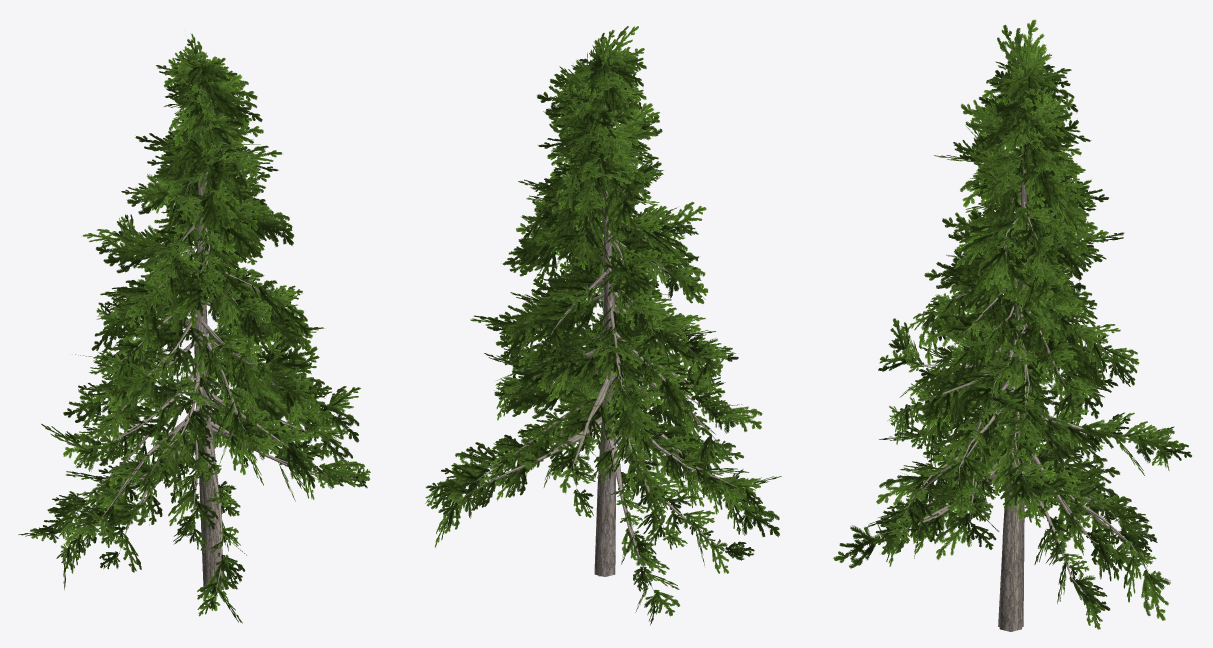
File: tree_hemlock.glb
3 views of the same model, side by side, from view 1: azimuth 30°, elevation 25°; view 2: azimuth 150°, elevation 25°; view 3: azimuth 270°, elevation 25° (orthographic). The views are drawn at different scales.
Parts seen in each view (by area): view 1: LOD1_leaves, LOD0_leaves, LOD0_trunk, LOD1_trunk; view 2: LOD1_leaves, LOD0_leaves, LOD0_trunk, LOD1_trunk; view 3: LOD1_leaves, LOD0_leaves, LOD0_trunk, LOD1_trunk.
Part boxes in pixels (left/top/right/bottom): LOD1_leaves: left=18, top=34, right=370, bottom=623; LOD0_leaves: left=30, top=39, right=370, bottom=616; LOD0_trunk: left=61, top=143, right=356, bottom=599; LOD1_trunk: left=83, top=92, right=354, bottom=588; LOD1_leaves: left=431, top=26, right=781, bottom=616; LOD0_leaves: left=425, top=30, right=769, bottom=625; LOD0_trunk: left=452, top=166, right=739, bottom=591; LOD1_trunk: left=478, top=105, right=731, bottom=576; LOD1_leaves: left=833, top=19, right=1181, bottom=620; LOD0_leaves: left=860, top=40, right=1191, bottom=629; LOD0_trunk: left=872, top=147, right=1156, bottom=631; LOD1_trunk: left=903, top=148, right=1133, bottom=627.
Bounding box in the file's own units: 5.93 × 10.2 × 5.84.
2 materials, 2 textured.
